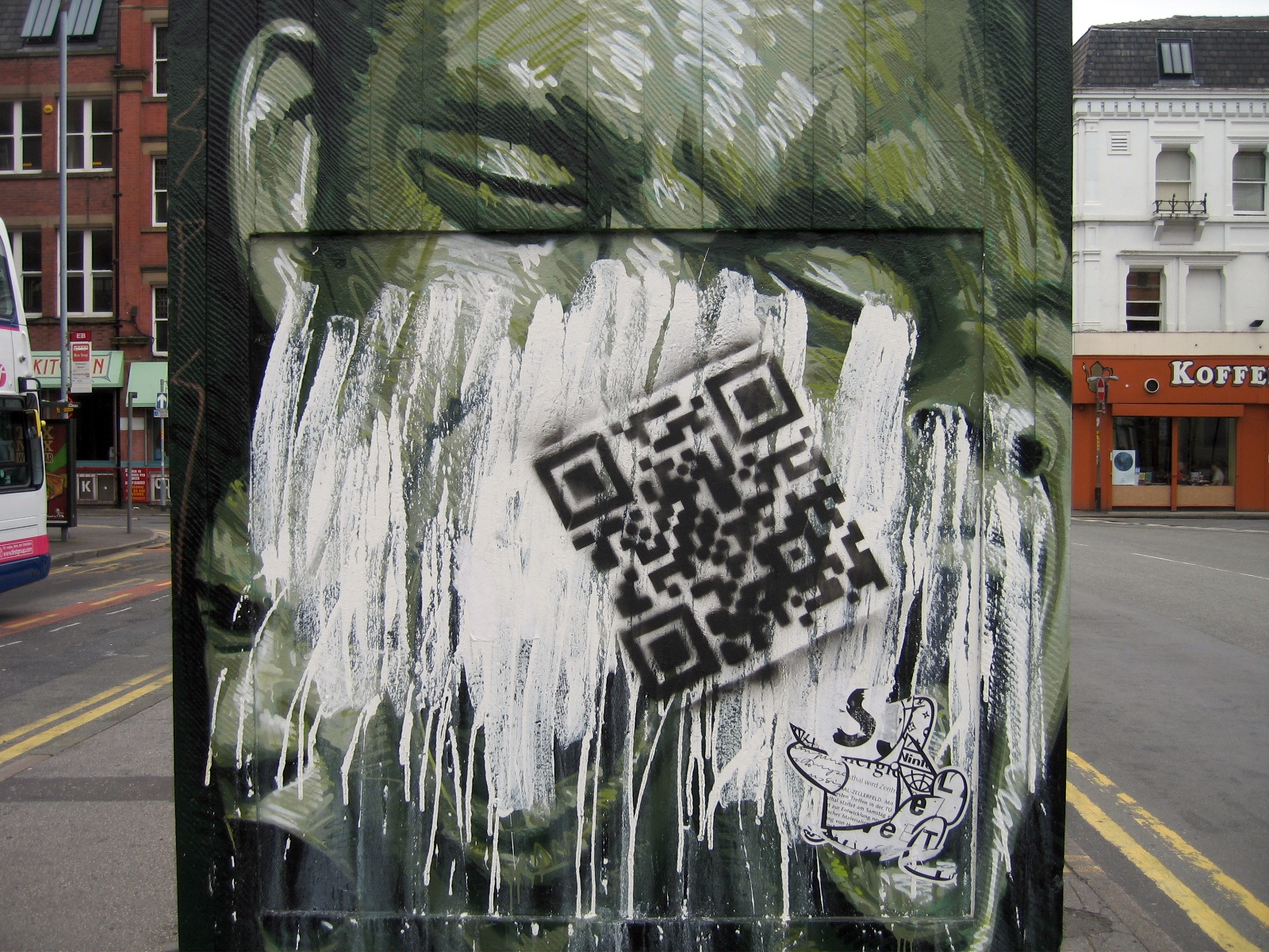QR-CODE: (533, 352, 888, 701)
